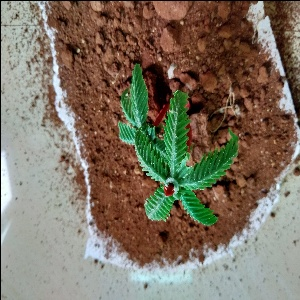plant: (118, 71, 230, 219)
